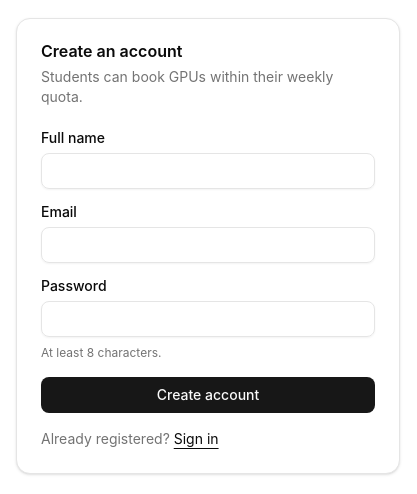
Scenario: registration › checks the password length locally
Type "Ada" into the field labelled "Full name" at (208, 171), box [41,153,375,189]
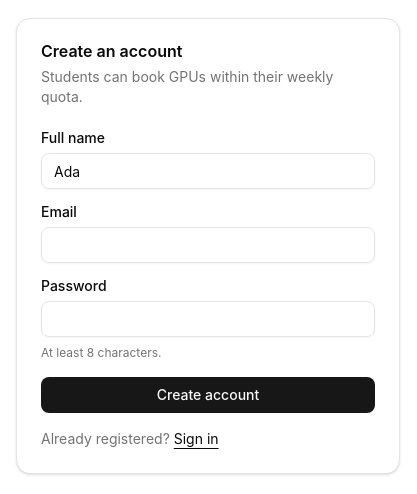
Type "ada@example.edu" into the field labelled "Email" at (208, 245), box [41,227,375,263]
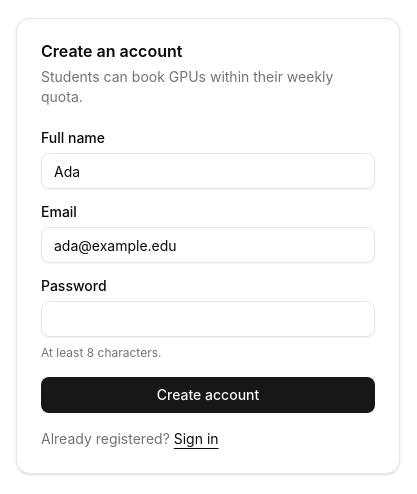
Type "short" into the password field labelled "Password" at (208, 319), box [41,301,375,337]
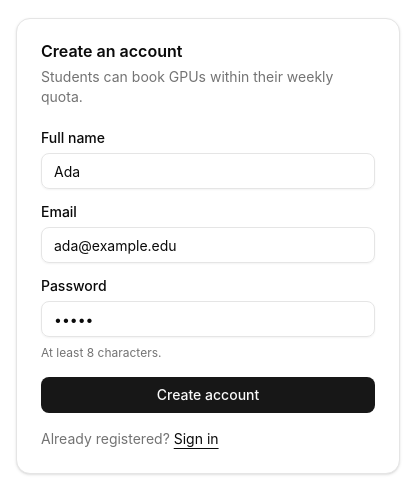
Click the button "Create account" at (208, 395), box [41,377,375,413]
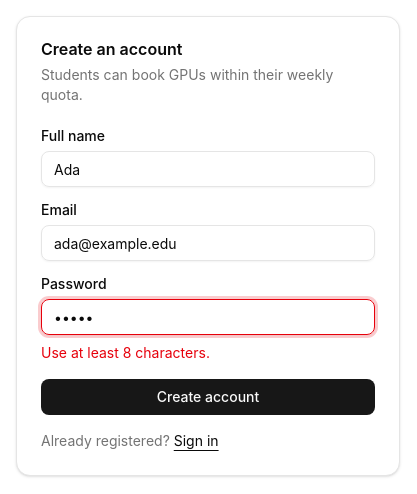
Result: the text "Use at least 8 characters." is shown at [41,344,210,361]
